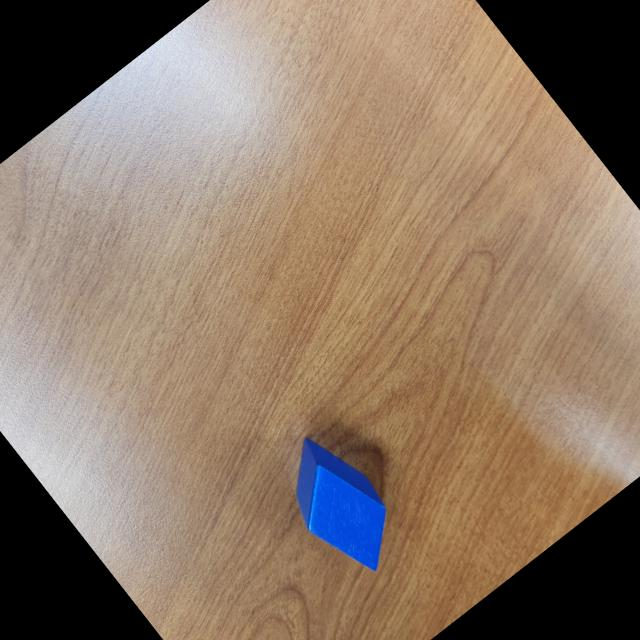blue: (262, 422, 417, 588)
